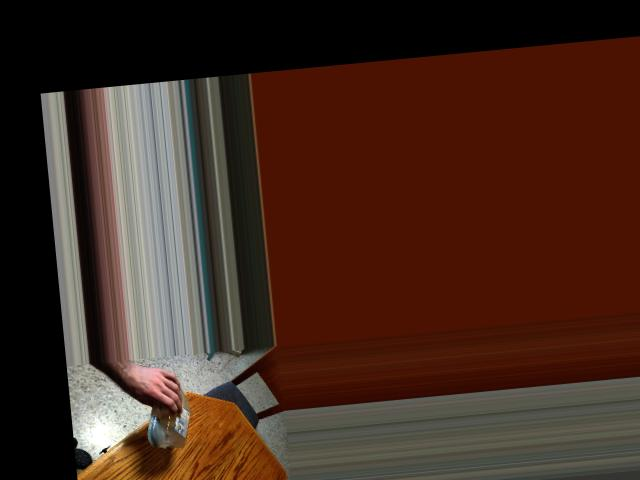cheese: (136, 371, 194, 438)
